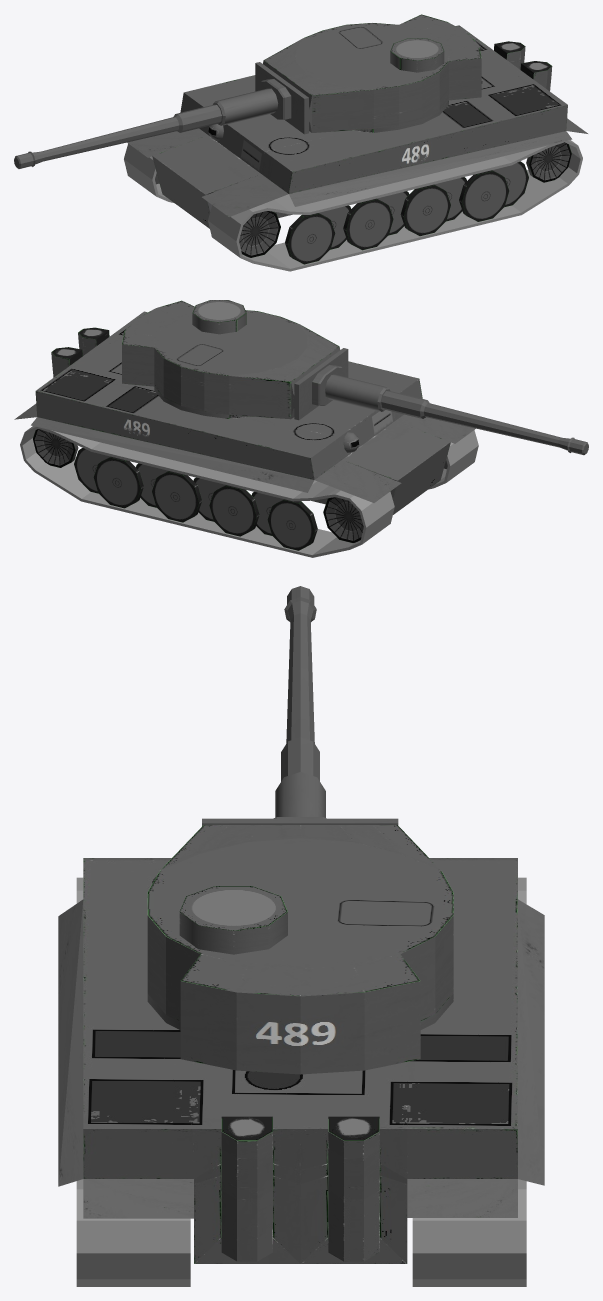
3 renders of one model, top to bottom at view 1: azimuth 30°, elevation 25°; view 2: azimuth 150°, elevation 25°; view 3: azimuth 270°, elevation 25°, orthographic. The views are drawn at different scales.
Visible parts, largest first — view 1: Box001, Cylinder001, Line001, Box002, Cylinder002, Cylinder023, Cylinder025, Cylinder028, Cylinder010, Cylinder048, Line002, Cylinder026 (+3 smaller); view 2: Box001, Cylinder001, Line002, Box002, Cylinder038, Cylinder041, Cylinder043, Cylinder046, Cylinder049, Cylinder050, Line001, Cylinder044 (+3 smaller); view 3: Box001, Cylinder001, Box002, Line002, Line001.
Boxes of the visible parts, left/top/right/bottom form: Box001: left=127, top=25, right=587, bottom=228; Cylinder001: left=263, top=14, right=481, bottom=132; Line001: left=208, top=140, right=582, bottom=271; Box002: left=14, top=62, right=308, bottom=168; Cylinder002: left=285, top=213, right=335, bottom=264; Cylinder023: left=343, top=198, right=393, bottom=250; Cylinder025: left=459, top=170, right=509, bottom=221; Cylinder028: left=400, top=184, right=450, bottom=236; Cylinder010: left=239, top=211, right=280, bottom=257; Cylinder048: left=526, top=142, right=571, bottom=182; Line002: left=124, top=143, right=174, bottom=203; Cylinder026: left=492, top=161, right=528, bottom=207; Box001: left=14, top=311, right=475, bottom=514; Cylinder001: left=122, top=300, right=340, bottom=419; Line002: left=20, top=426, right=394, bottom=557; Box002: left=294, top=348, right=588, bottom=455; Cylinder038: left=267, top=499, right=317, bottom=550; Cylinder041: left=209, top=485, right=259, bottom=536; Cylinder043: left=93, top=456, right=143, bottom=508; Cylinder046: left=152, top=471, right=201, bottom=522; Cylinder049: left=323, top=497, right=363, bottom=542; Cylinder050: left=33, top=429, right=78, bottom=467; Line001: left=428, top=430, right=478, bottom=489; Cylinder044: left=74, top=448, right=110, bottom=493; Box001: left=58, top=858, right=544, bottom=1263; Cylinder001: left=147, top=825, right=453, bottom=1074; Box002: left=202, top=586, right=398, bottom=825; Line002: left=412, top=877, right=526, bottom=1286; Line001: left=76, top=877, right=190, bottom=1286.
Size of the model in its own units: 205 by 57.67 by 83.14.
Materials: 6 (5 with a texture image).
